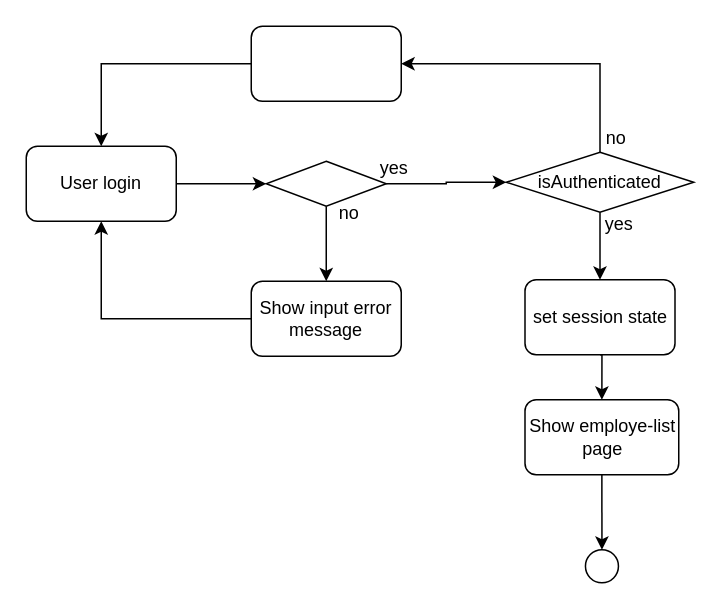
This 720x609 diagram has some shape labels left out. Each missing label, with the box of its shape:
isValid: (265, 160, 386, 206)
Show login error message: (250, 25, 401, 101)
